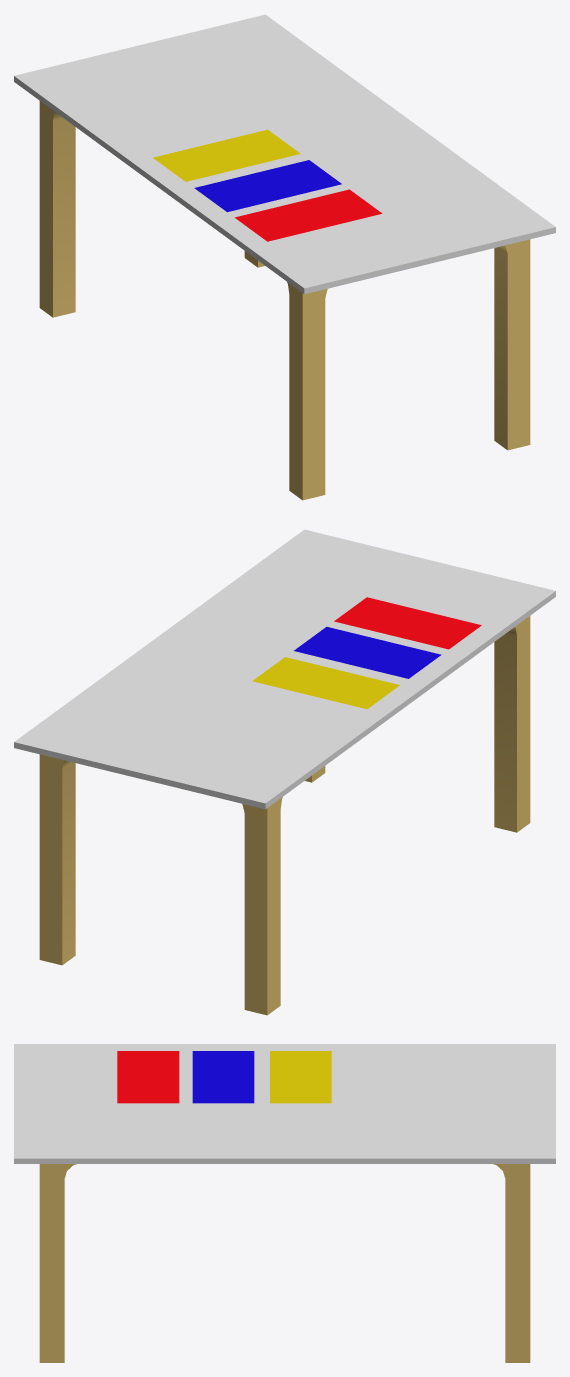
Rendered from tablesocial.fbx.
The picture shows the model from 3 angles, top to bottom: view 1: azimuth 30°, elevation 25°; view 2: azimuth 150°, elevation 25°; view 3: azimuth 270°, elevation 25°; orthographic projection. The views are drawn at different scales.
Parts seen in each view (by area): view 1: Table, Plane; view 2: Table, Plane; view 3: Table, Plane.
Part boxes in pixels (box(x1,y1,x2,y2)): Table: box(14, 14, 555, 500); Plane: box(153, 129, 381, 241); Table: box(14, 529, 555, 1015); Plane: box(252, 597, 481, 709); Table: box(14, 1044, 555, 1362); Plane: box(117, 1051, 331, 1103).
Bounding box in the file's own units: 221 × 190 × 442.
